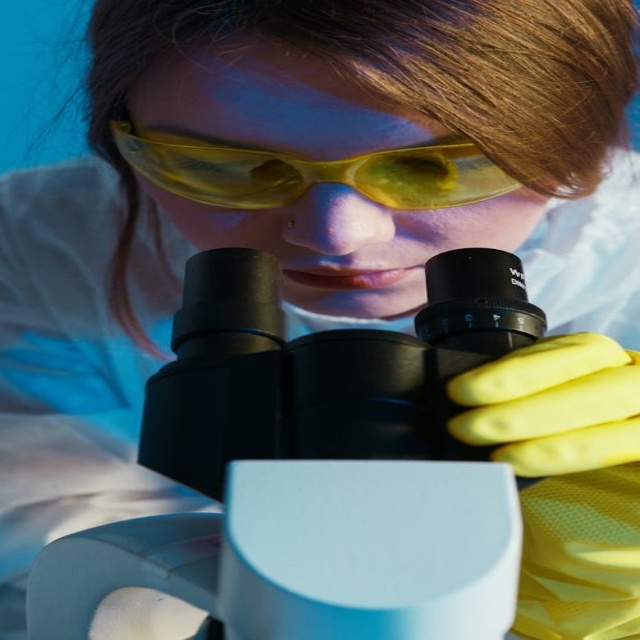Gafas: (112, 119, 529, 212)
Guantes: (447, 332, 638, 479)
Sin_mascara: (279, 256, 419, 316)
